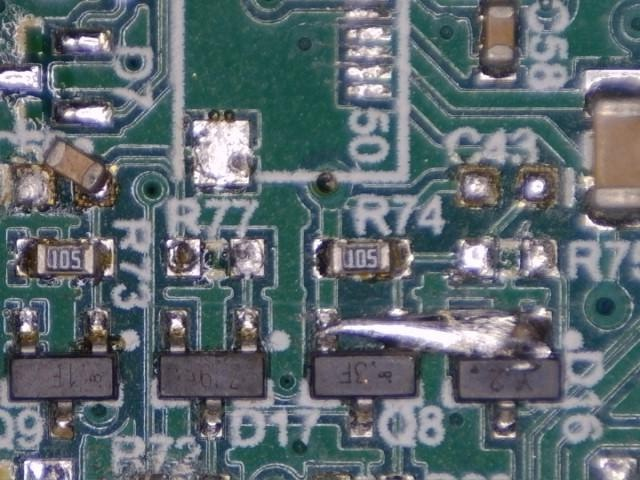pcb_defect: (325, 309, 550, 359), (15, 138, 116, 207)
